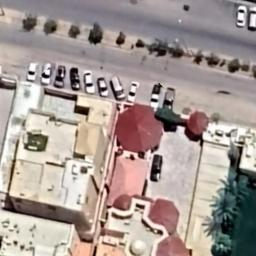pickup: (162, 86, 176, 111), (150, 82, 160, 110)
sedan: (147, 154, 168, 184), (229, 4, 249, 28), (108, 75, 128, 98), (82, 68, 98, 94), (37, 60, 52, 86), (25, 58, 40, 83), (97, 74, 111, 100), (244, 3, 256, 33), (128, 76, 140, 104), (69, 65, 81, 91), (54, 64, 66, 88)
